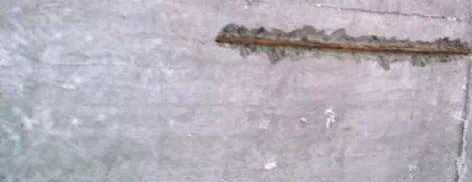Crack: (313, 3, 462, 22)
Exposed reinforcement: (215, 35, 472, 57)
Spalling: (214, 22, 472, 66)
